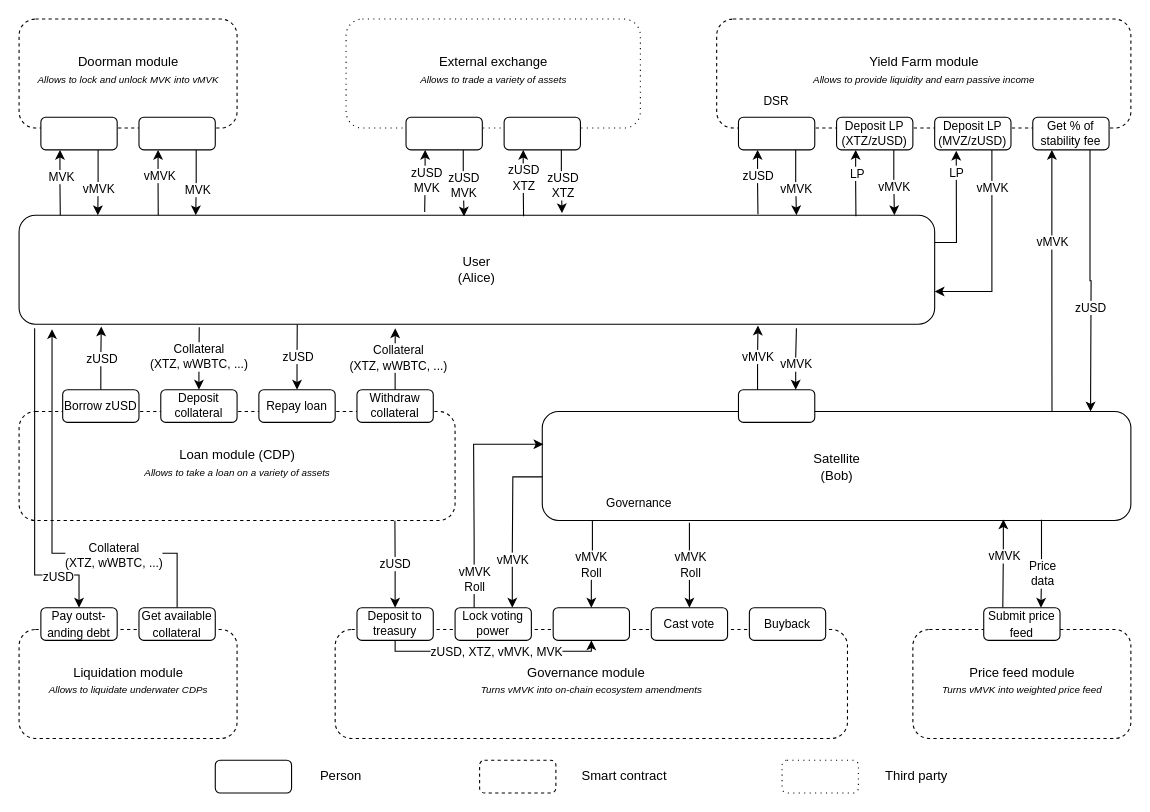
Some shapes in this 1150 by 812 pixel diagram are drawn without their labels. The shapes that lost their labels are listed below. From the top down, each one's centre as x and y in pixels, then its label:
At point (78, 133): "Enter vMVK".
At point (176, 133): "Exit vMVK".
At point (443, 133): "Trade MVK/zUSD".
At point (541, 133): "Trade XTZ/zUSD".
At point (776, 133): "Deposit zUSD".
At point (776, 405): "Delegate".
At point (1016, 502): "Price feed".
At point (590, 623): "Propose ideas".
